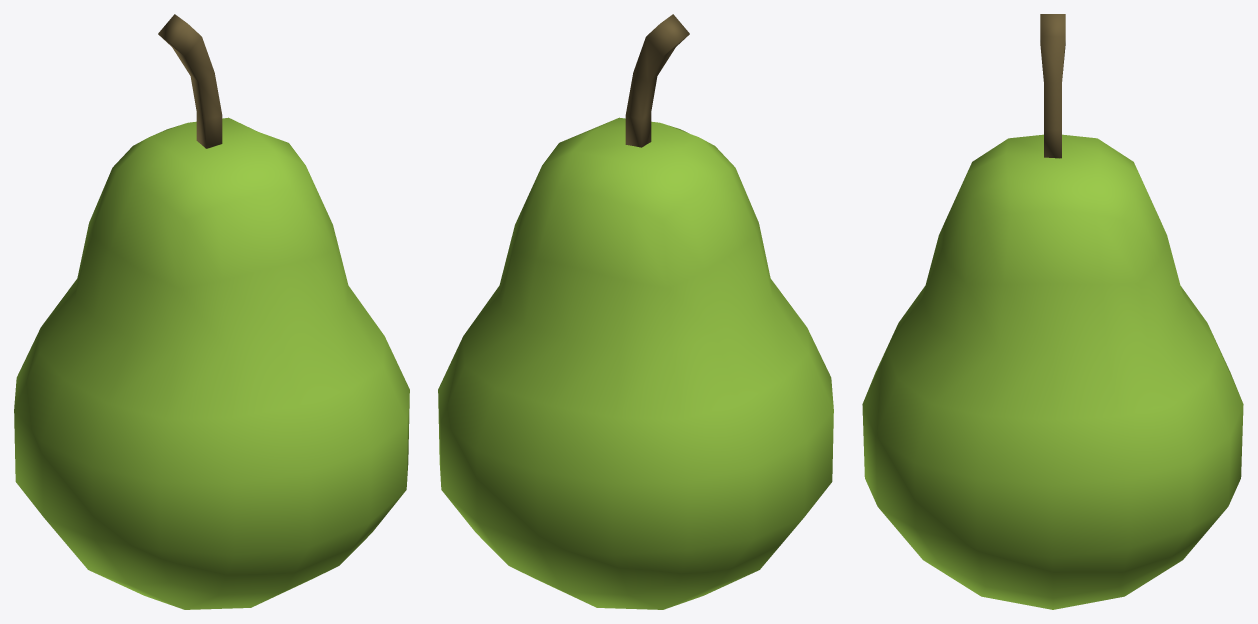
The model's file is pear-full.fbx.
The picture shows the model from 3 angles, left to right: view 1: azimuth 30°, elevation 25°; view 2: azimuth 150°, elevation 25°; view 3: azimuth 270°, elevation 25°; orthographic projection. The views are drawn at different scales.
Visible parts, largest first — view 1: pear-full; view 2: pear-full; view 3: pear-full.
Boxes of the visible parts, left/top/right/bottom form: pear-full: left=14, top=14, right=409, bottom=609; pear-full: left=438, top=14, right=833, bottom=609; pear-full: left=862, top=14, right=1243, bottom=609.
Bounding box in the file's own units: 168 × 273 × 168.
